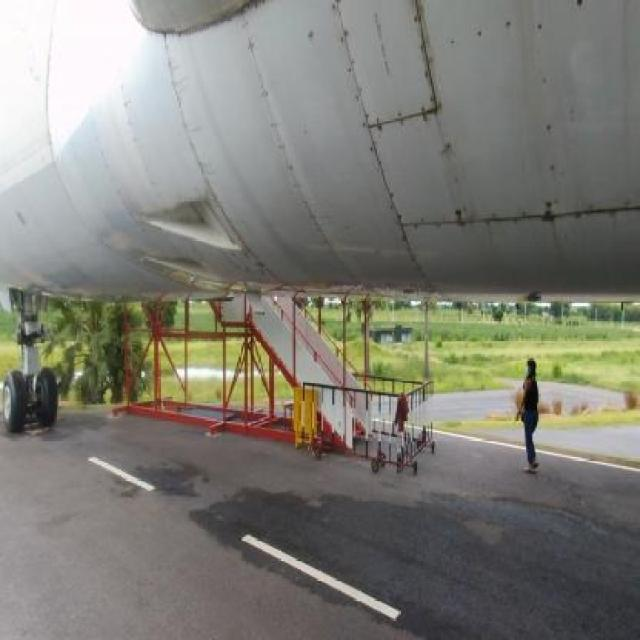Missing-Rivet: (338, 32, 399, 200), (529, 12, 571, 200), (443, 21, 585, 59)
Rust: (486, 202, 639, 288), (434, 117, 478, 229), (414, 3, 444, 122)
